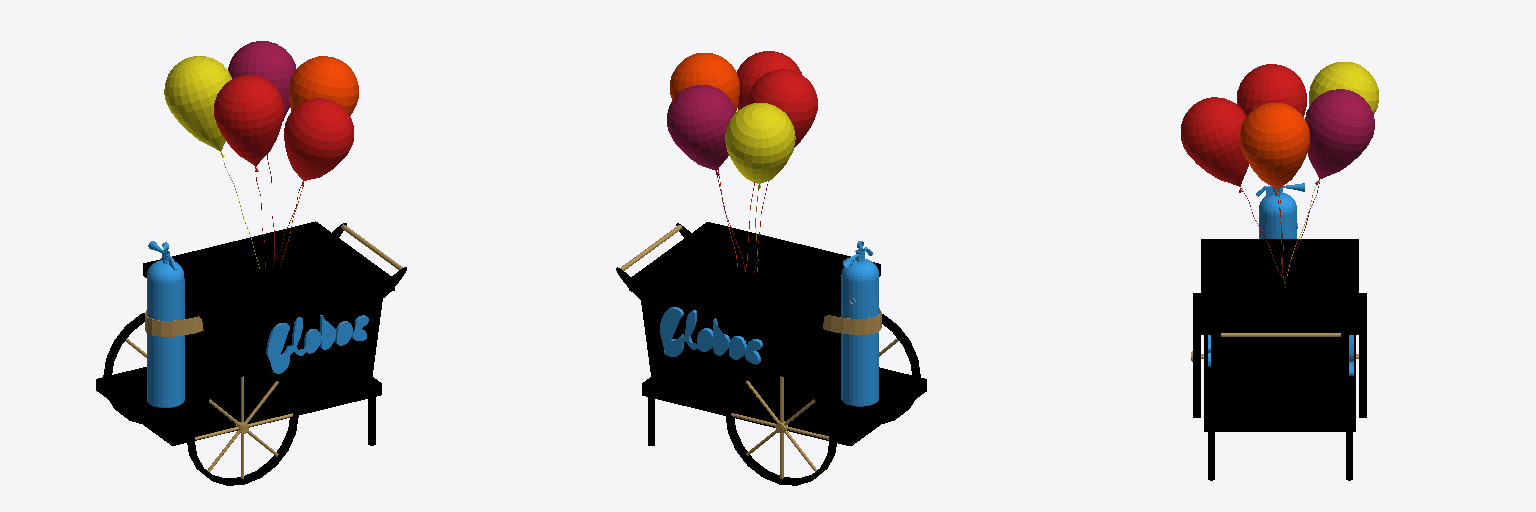
The picture shows the model from 3 angles: view 1: azimuth 30°, elevation 25°; view 2: azimuth 150°, elevation 25°; view 3: azimuth 270°, elevation 25°; orthographic projection.
Parts seen in each view (by area): view 1: pCube2, pCube1, pasted__pCube2 group1, bottle:Mesh, globo1:Mesh, globo3:Mesh group11, globo4:Mesh group12, globo2:Mesh group10, pasted__pasted__pasted__pPipe1 pasted__pasted__group pasted__gro, typeMesh1, globo5:Mesh group13, pPipe1 (+1 smaller); view 2: pCube2, pCube1, pasted__pCube2 group1, bottle:Mesh, globo4:Mesh group12, globo5:Mesh group13, globo1:Mesh, pasted__pasted__pasted__pasted__pPipe1 pasted__pasted__pasted__g, pasted__typeMesh1 group17, globo2:Mesh group10, globo3:Mesh group11, pPipe1 (+1 smaller); view 3: pCube2, pCube1, globo5:Mesh group13, globo2:Mesh group10, globo3:Mesh group11, pasted__pCube2 group1, globo1:Mesh, globo4:Mesh group12, bottle:Mesh, pasted__pasted__pasted__pPipe1 pasted__pasted__group pasted__gro, pasted__pasted__pasted__pasted__pPipe1 pasted__pasted__pasted__g.
Part boxes in pixels (left/top/right/bottom): pCube2: left=143, top=221, right=394, bottom=332; pCube1: left=185, top=294, right=383, bottom=415; pasted__pCube2 group1: left=96, top=367, right=381, bottom=445; bottle:Mesh: left=147, top=241, right=184, bottom=407; globo1:Mesh: left=214, top=75, right=283, bottom=268; globo3:Mesh group11: left=272, top=98, right=353, bottom=267; globo4:Mesh group12: left=164, top=56, right=259, bottom=268; globo2:Mesh group10: left=280, top=56, right=358, bottom=265; pasted__pasted__pasted__pPipe1 pasted__pasted__group pasted__gro: left=186, top=367, right=298, bottom=485; typeMesh1: left=266, top=315, right=368, bottom=373; globo5:Mesh group13: left=228, top=41, right=296, bottom=258; pPipe1: left=145, top=310, right=203, bottom=336; pCube2: left=629, top=222, right=880, bottom=332; pCube1: left=640, top=294, right=840, bottom=415; pasted__pCube2 group1: left=642, top=367, right=926, bottom=445; bottle:Mesh: left=841, top=241, right=878, bottom=406; globo4:Mesh group12: left=725, top=103, right=795, bottom=271; globo5:Mesh group13: left=667, top=85, right=744, bottom=268; globo1:Mesh: left=748, top=69, right=817, bottom=272; pasted__pasted__pasted__pasted__pPipe1 pasted__pasted__pasted__g: left=725, top=367, right=837, bottom=485; pasted__typeMesh1 group17: left=660, top=307, right=762, bottom=364; globo2:Mesh group10: left=670, top=53, right=739, bottom=266; globo3:Mesh group11: left=737, top=51, right=801, bottom=271; pPipe1: left=823, top=308, right=881, bottom=334; pCube2: left=1201, top=239, right=1358, bottom=334; pCube1: left=1211, top=335, right=1348, bottom=416; globo5:Mesh group13: left=1285, top=89, right=1374, bottom=278; globo2:Mesh group10: left=1240, top=103, right=1309, bottom=287; globo3:Mesh group11: left=1181, top=97, right=1285, bottom=282; pasted__pCube2 group1: left=1204, top=335, right=1355, bottom=431; globo1:Mesh: left=1237, top=64, right=1306, bottom=278; globo4:Mesh group12: left=1287, top=62, right=1378, bottom=275; bottle:Mesh: left=1256, top=183, right=1304, bottom=238; pasted__pasted__pasted__pPipe1 pasted__pasted__group pasted__gro: left=1193, top=293, right=1200, bottom=417; pasted__pasted__pasted__pasted__pPipe1 pasted__pasted__pasted__g: left=1359, top=293, right=1366, bottom=417.
Bounding box in the file's own units: 5.05 × 7.28 × 3.58.
Materials: 16 (6 with a texture image).